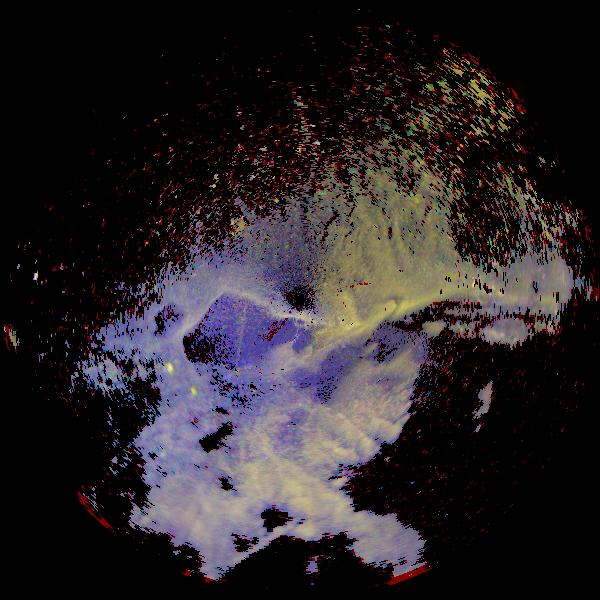roost: (188, 387, 200, 399), (165, 363, 174, 372), (158, 450, 167, 459)
